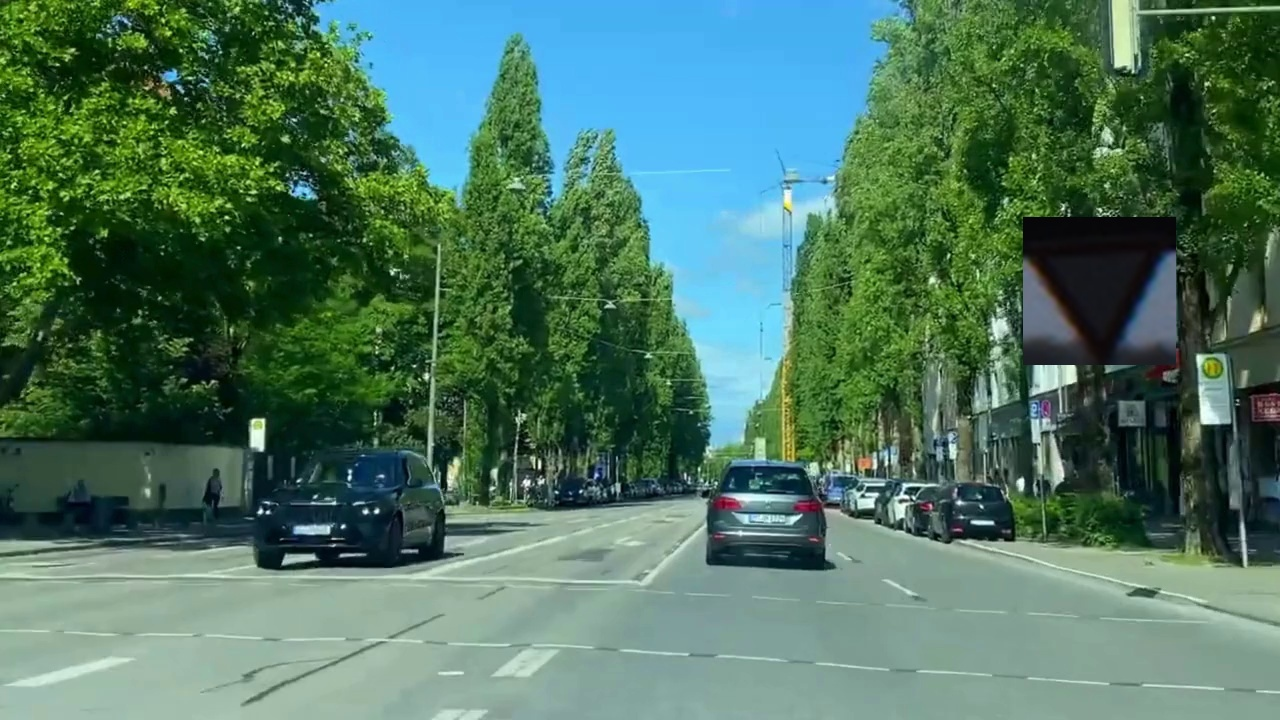Yield: (1023, 217, 1176, 365)
